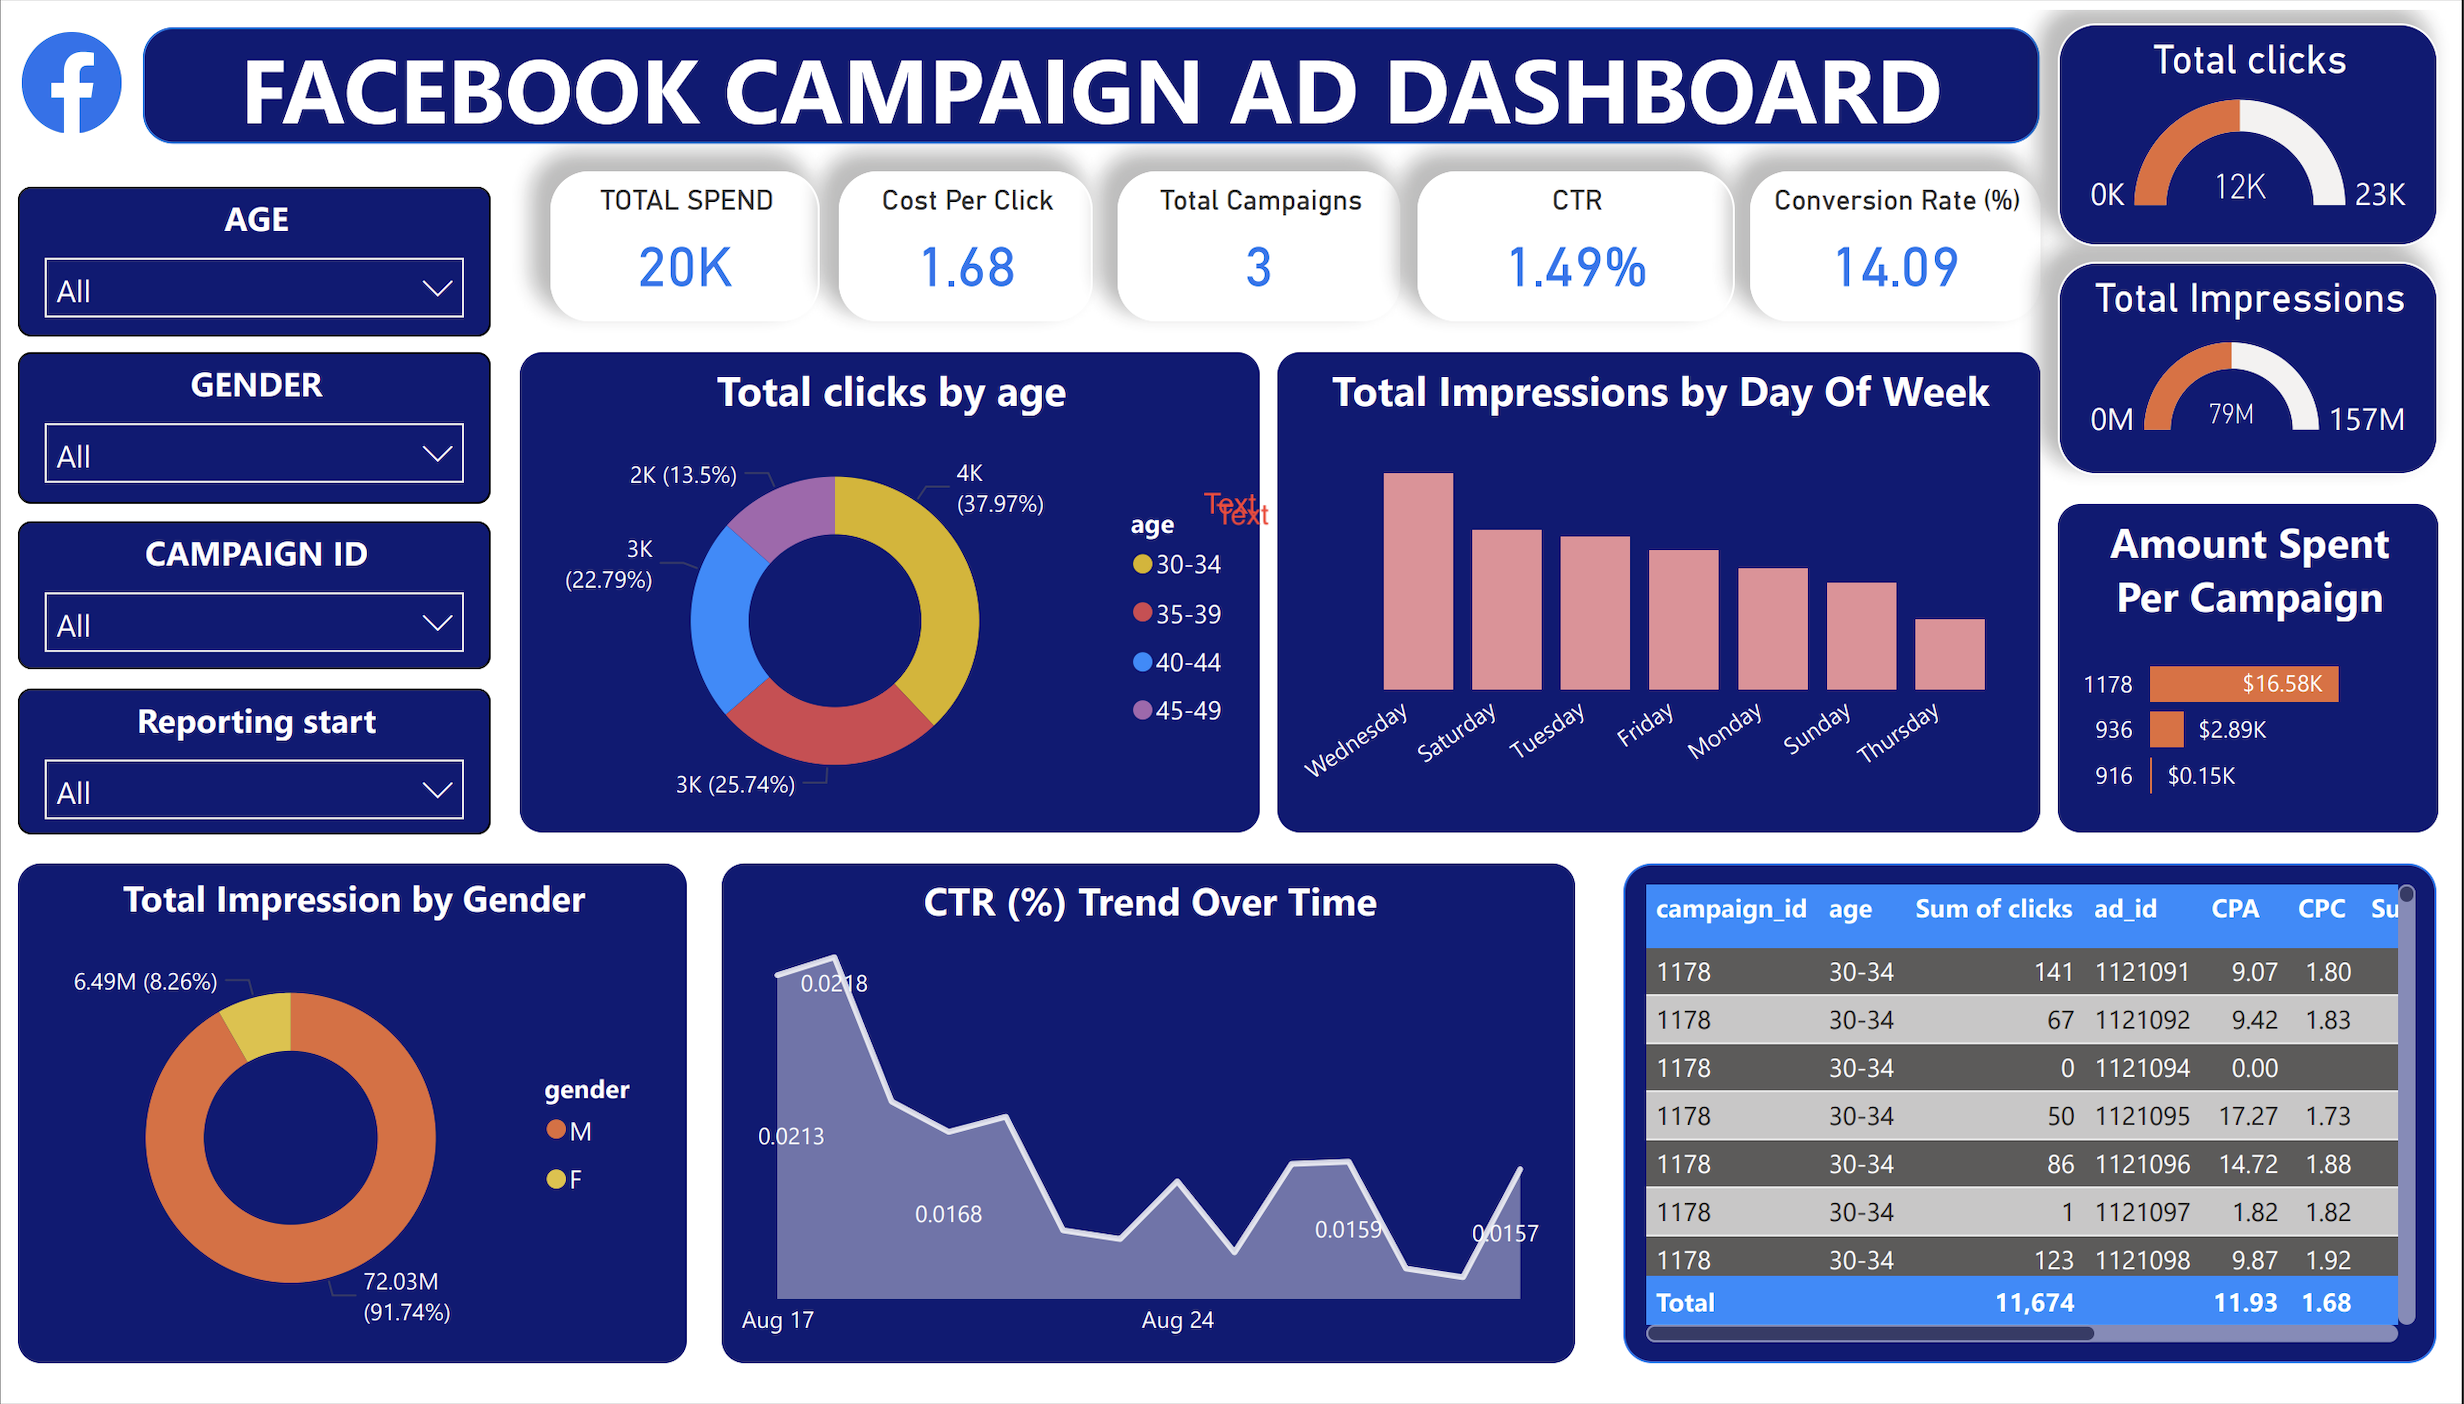

Layout of this report page (visuals, bound fields, positions):
{"tool":"powerbi","page":{"name":"Campaign Overview","canvas":[1280,720],"ordinal":0},"visuals":[{"type":"card","title":"Total Campaigns","fields":{"Values":["Count(data.campaign_id)"]},"box":[580.6,84.2,147.3,78],"z":0},{"type":"card","title":"Conversion Rate (%)","fields":{"Values":["data.Conversion Rate (%)"]},"box":[909.9,84.2,151,78],"z":1000},{"type":"card","title":"Cost Per Click","fields":{"Values":["data.CPC"]},"box":[435.7,84.2,132.5,78],"z":2000},{"type":"gauge","title":"Total Impressions","fields":{"Y":["Sum(data.impressions)"]},"box":[1069.6,131.2,198.1,111.4],"z":3000},{"type":"clusteredColumnChart","title":"Total Impressions by Day Of Week","fields":{"Y":["Sum(data.impressions)"],"Category":["data.DayOfWeek"]},"box":[663.5,178.3,397.4,250.1],"z":4000},{"type":"clusteredBarChart","title":"Amount Spent Per Campaign","fields":{"Category":["data.campaign_id"],"Y":["Sum(data.spent)"]},"box":[1069.6,257.5,198.1,170.8],"z":5000},{"type":"donutChart","title":"Total Impression by Gender","fields":{"Category":["data.gender"],"Y":["Sum(data.impressions)"]},"box":[8.7,444.4,347.9,260],"z":6000},{"type":"stackedAreaChart","title":"CTR (%) Trend Over Time","fields":{"Category":["data.reporting_start.Variation.Date Hierarchy.Year","data.reporting_start.Variation.Date Hierarchy.Quarter","data.reporting_start.Variation.Date Hierarchy.Month","data.reporting_start.Variation.Date Hierarchy.Day"],"Y":["data.CTR (%)"]},"box":[375.1,444.4,444.4,260],"z":7000},{"type":"tableEx","fields":{"Values":["data.campaign_id","data.age","Sum(data.clicks)","data.ad_id","data.CPA","data.CPC","Sum(data.impressions)","Sum(data.spent)"]},"box":[844.3,444.4,423.4,260],"z":8000},{"type":"shape","title":"FACEBOOK CAMPAIGN AD DASHBOARD","box":[74.3,8.7,986.6,60.7],"z":9000},{"type":"card","title":"TOTAL SPEND","fields":{"Values":["Sum(data.spent)"]},"box":[286,84.2,139.9,78],"z":10000},{"type":"image","box":[0,7.4,74.3,61.9],"z":11000},{"type":"slicer","title":"AGE","fields":{"Values":["data.age"]},"box":[8.7,91.6,246.3,78],"z":12000},{"type":"slicer","title":"GENDER","fields":{"Values":["data.gender"]},"box":[8.7,178.3,246.3,79.2],"z":13000},{"type":"slicer","title":"CAMPAIGN ID","fields":{"Values":["data.campaign_id"]},"box":[8.7,266.2,246.3,76.8],"z":14000},{"type":"gauge","title":"Total clicks","fields":{"Y":["Sum(data.clicks)"]},"box":[1069.6,7.4,198.1,116.4],"z":15000},{"type":"donutChart","title":"Total clicks by age","fields":{"Y":["Sum(data.clicks)"],"Category":["data.age"]},"box":[269.9,178.3,385,250.1],"z":16000},{"type":"slicer","title":"Reporting start","fields":{"Values":["data.reporting_start"]},"box":[8.7,352.8,246.3,75.5],"z":17000},{"type":"card","title":"CTR","fields":{"Values":["data.CTR (%)"]},"box":[736.6,84.2,164.6,78],"z":18000}]}

Visuals, with their boxes in screenshot pixels (x1, y1, x2, y2), scaled from the page's 1280x720 canvas onto the 2464x1404 screenshot:
"Total Campaigns" card: select_region(1118, 164, 1401, 316)
"Conversion Rate (%)" card: select_region(1752, 164, 2042, 316)
"Cost Per Click" card: select_region(839, 164, 1094, 316)
"Total Impressions" gauge: select_region(2059, 256, 2440, 473)
"Total Impressions by Day Of Week" clusteredColumnChart: select_region(1277, 348, 2042, 835)
"Amount Spent Per Campaign" clusteredBarChart: select_region(2059, 502, 2440, 835)
"Total Impression by Gender" donutChart: select_region(17, 867, 686, 1374)
"CTR (%) Trend Over Time" stackedAreaChart: select_region(722, 867, 1578, 1374)
tableEx - data.campaign_id x data.age: select_region(1625, 867, 2440, 1374)
"FACEBOOK CAMPAIGN AD DASHBOARD" shape: select_region(143, 17, 2042, 135)
"TOTAL SPEND" card: select_region(551, 164, 820, 316)
image: select_region(0, 14, 143, 135)
"AGE" slicer: select_region(17, 179, 491, 331)
"GENDER" slicer: select_region(17, 348, 491, 502)
"CAMPAIGN ID" slicer: select_region(17, 519, 491, 669)
"Total clicks" gauge: select_region(2059, 14, 2440, 241)
"Total clicks by age" donutChart: select_region(520, 348, 1261, 835)
"Reporting start" slicer: select_region(17, 688, 491, 835)
"CTR" card: select_region(1418, 164, 1735, 316)
